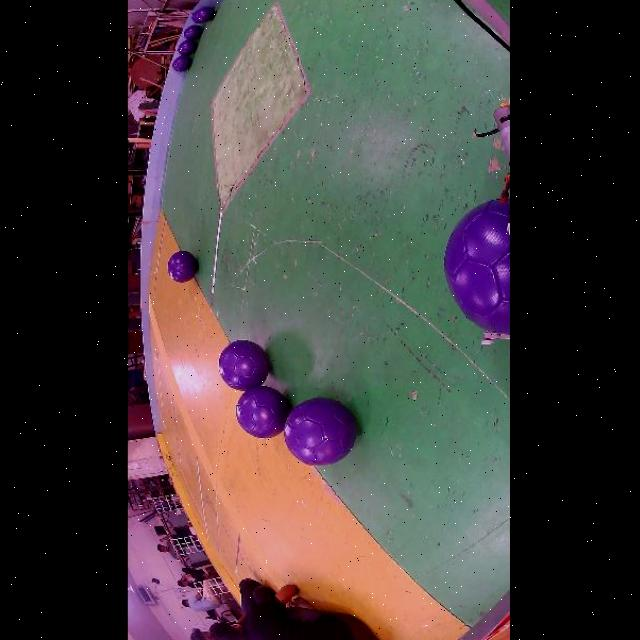P: (443, 199, 510, 336), (284, 397, 355, 466), (234, 386, 290, 438), (218, 340, 269, 390), (167, 251, 197, 283), (172, 55, 191, 73), (183, 25, 202, 41), (177, 39, 196, 55), (196, 7, 214, 23), (191, 12, 199, 23)
